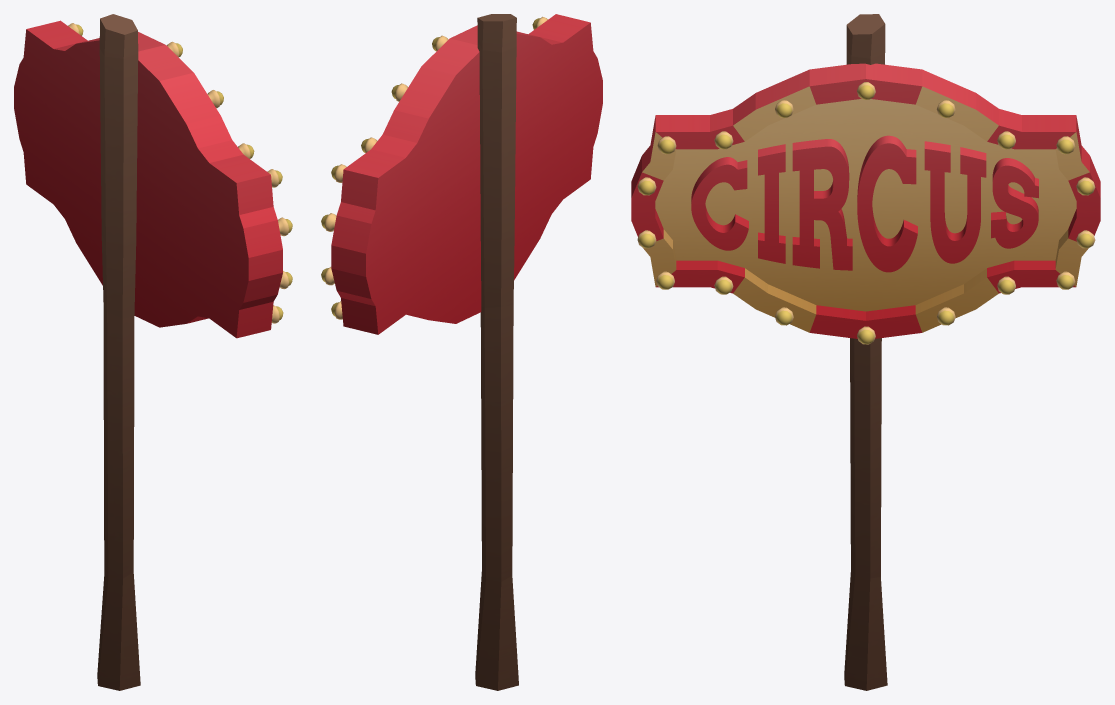
The model's file is circus_stick.fbx.
The picture shows the model from 3 angles, left to right: view 1: azimuth 30°, elevation 25°; view 2: azimuth 150°, elevation 25°; view 3: azimuth 270°, elevation 25°; orthographic projection.
Visible parts, largest first — view 1: circus_stick; view 2: circus_stick; view 3: circus_stick.
Boxes of the visible parts, x1,y1,x2,y2 form: circus_stick: (14,14,292,690); circus_stick: (321,14,602,690); circus_stick: (631,14,1100,690).
Size of the model in its own units: 33.53 by 249 by 160.
